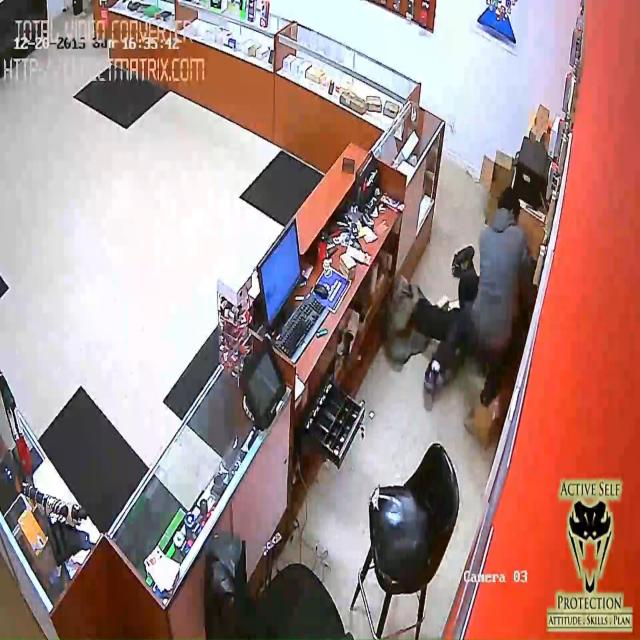fight: (418, 183, 538, 461)
